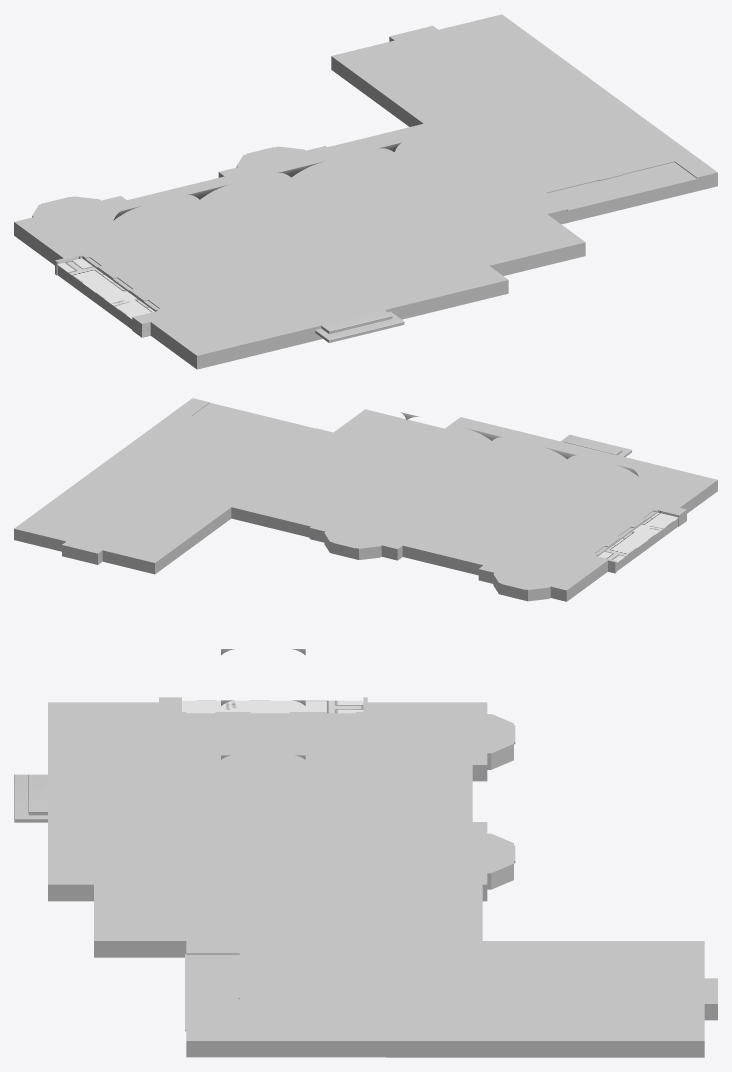
Rendered from RB05__Storey__GroundFloor__ProposedFloors__MeshModel__.glb.
3 renders of one model, top to bottom at view 1: azimuth 30°, elevation 25°; view 2: azimuth 150°, elevation 25°; view 3: azimuth 270°, elevation 25°, orthographic. The views are drawn at different scales.
Parts seen in each view (by area): view 1: 22__ProposedBuilding__Floors::Default, 22__ProposedBuilding__Floors::MAT000E__RB05__GroundFloor__Sc; view 2: 22__ProposedBuilding__Floors::Default, 22__ProposedBuilding__Floors::MAT000E__RB05__GroundFloor__Sc; view 3: 22__ProposedBuilding__Floors::Default, 22__ProposedBuilding__Floors::MAT000E__RB05__GroundFloor__Sc.
Boxes of the visible parts, x1,y1,x2,y2 form: 22__ProposedBuilding__Floors::Default: (14, 14, 717, 369); 22__ProposedBuilding__Floors::MAT000E__RB05__GroundFloor__Sc: (56, 255, 154, 319); 22__ProposedBuilding__Floors::Default: (14, 398, 717, 601); 22__ProposedBuilding__Floors::MAT000E__RB05__GroundFloor__Sc: (598, 510, 678, 562); 22__ProposedBuilding__Floors::Default: (14, 649, 717, 1057); 22__ProposedBuilding__Floors::MAT000E__RB05__GroundFloor__Sc: (182, 700, 363, 713).
Bounding box in the file's own units: 33.53 × 4.65 × 29.01.
3 materials, 2 textured.
